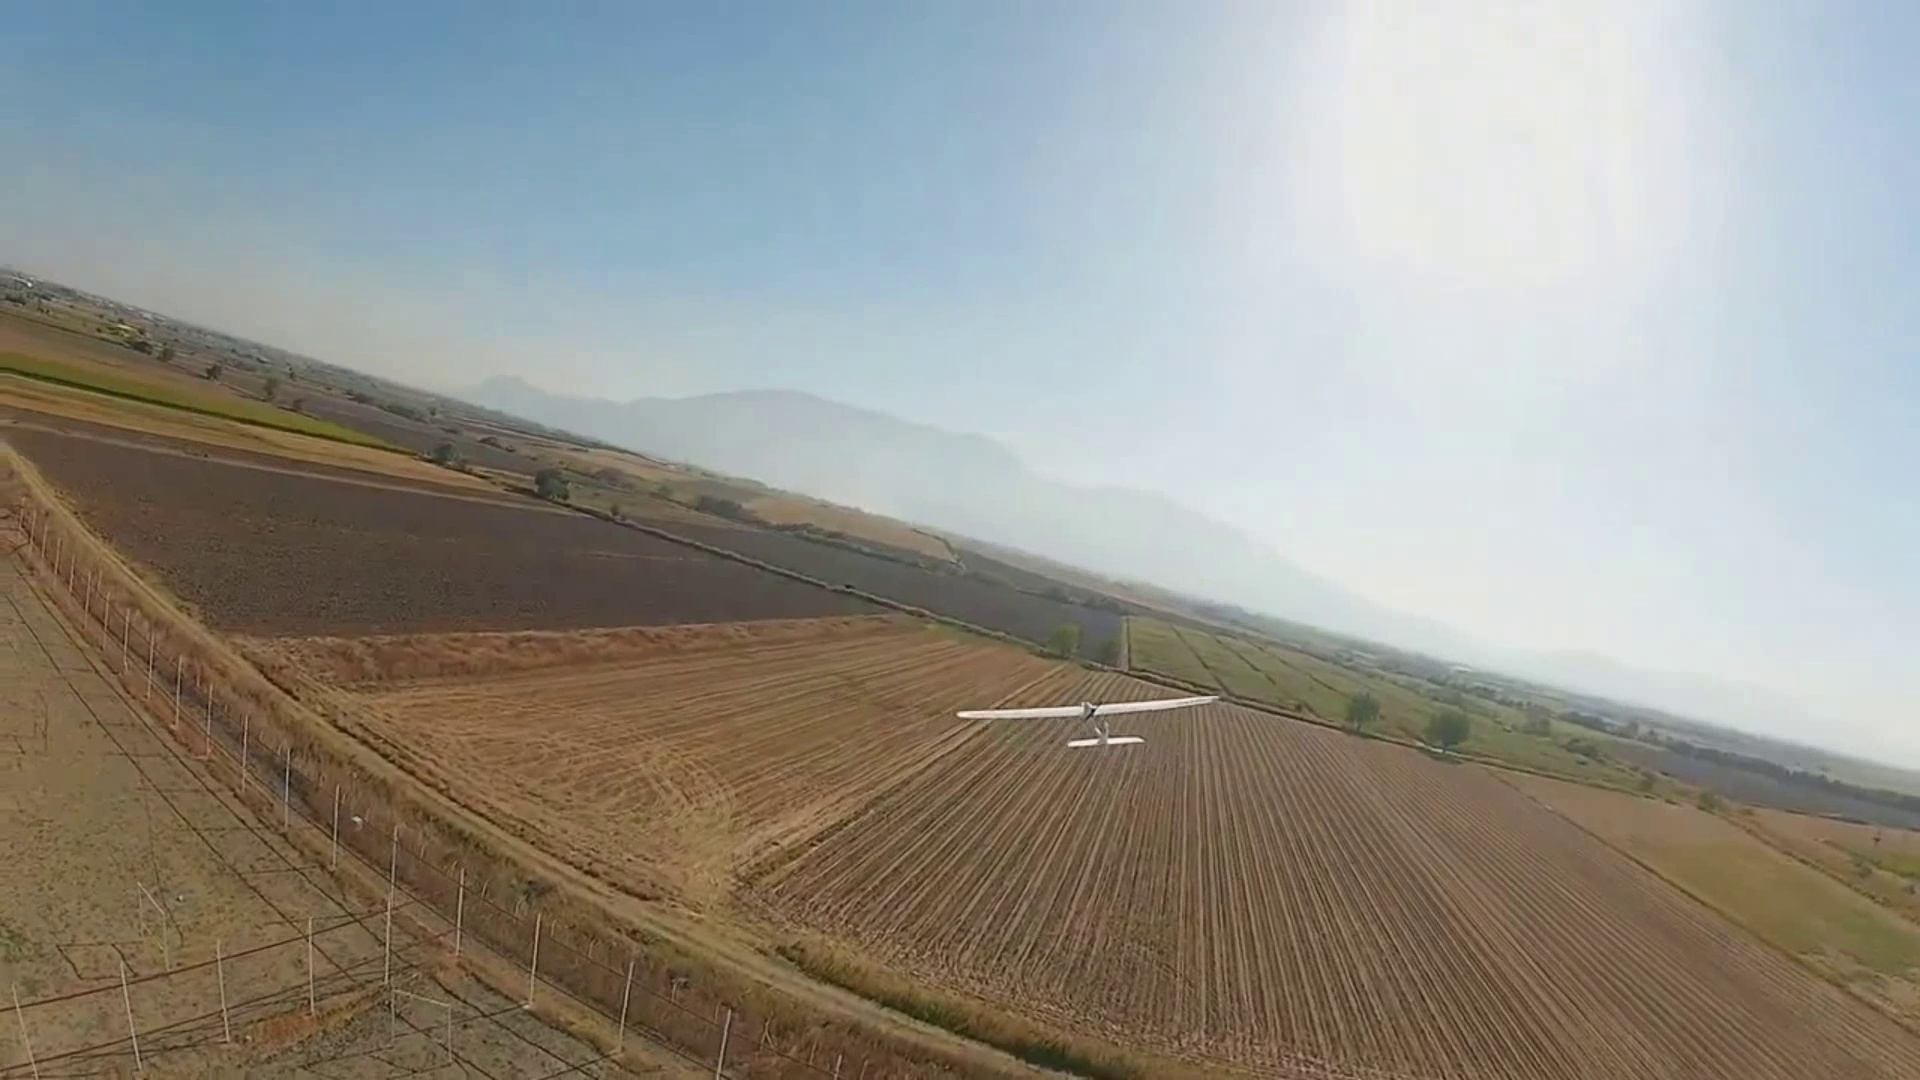airplane: (3, 272, 1909, 794)
